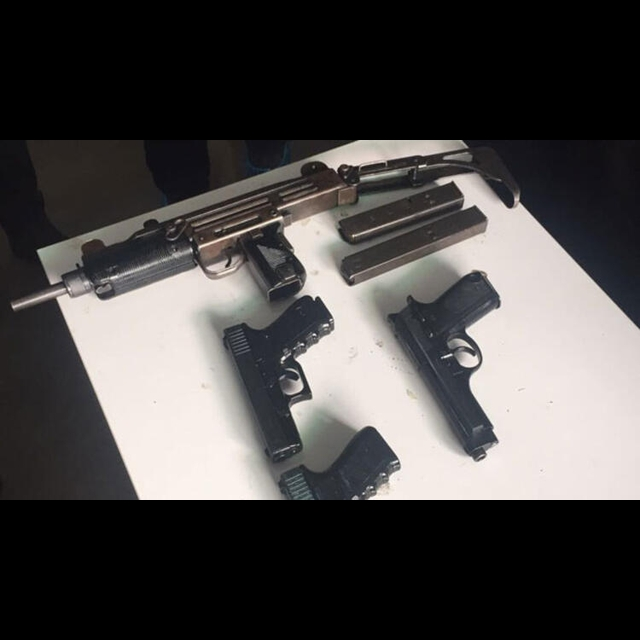SILAH: (384, 267, 547, 473), (218, 294, 336, 465)
